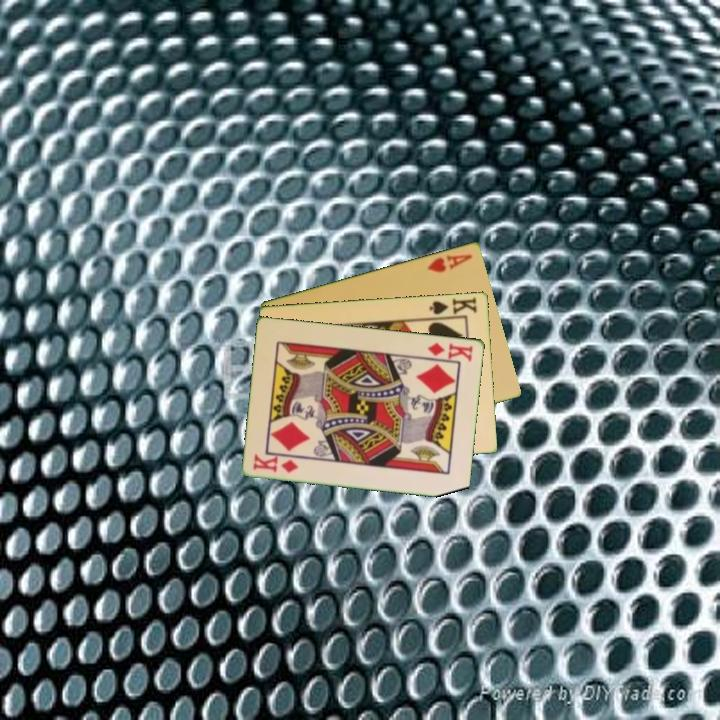Ah: (423, 250, 475, 275)
Kd: (424, 339, 476, 364), (250, 451, 301, 476)
Ks: (426, 293, 480, 317)
